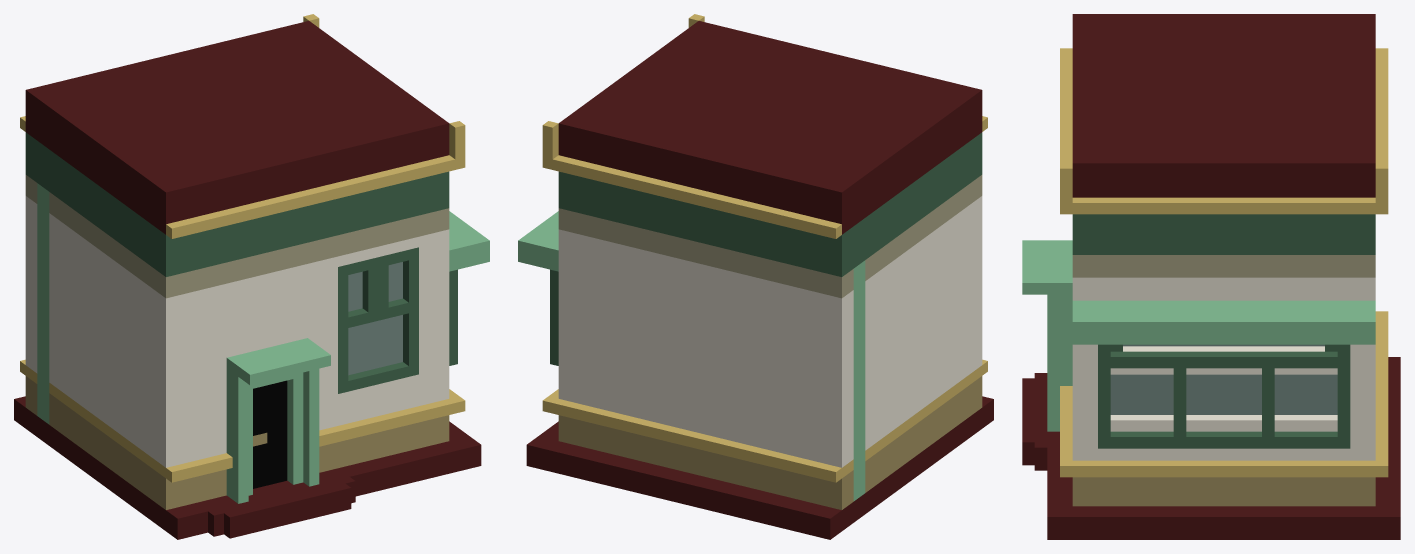
The model's file is tile_1_left_nr.obj.
3 views of the same model, side by side, from view 1: azimuth 30°, elevation 25°; view 2: azimuth 150°, elevation 25°; view 3: azimuth 270°, elevation 25° (orthographic). The views are drawn at different scales.
Size of the model in its own units: 3.2 by 3.2 by 3.
